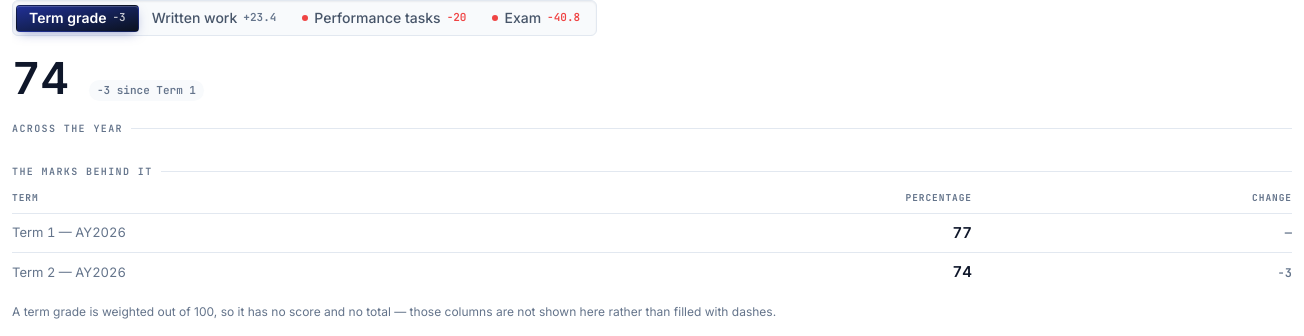
Scenario: the pills carry the flags › states the weight over the figure, not on the tab
Click the tab "Written work +23.4". click: [214, 18]
box: [139,4,289,32]
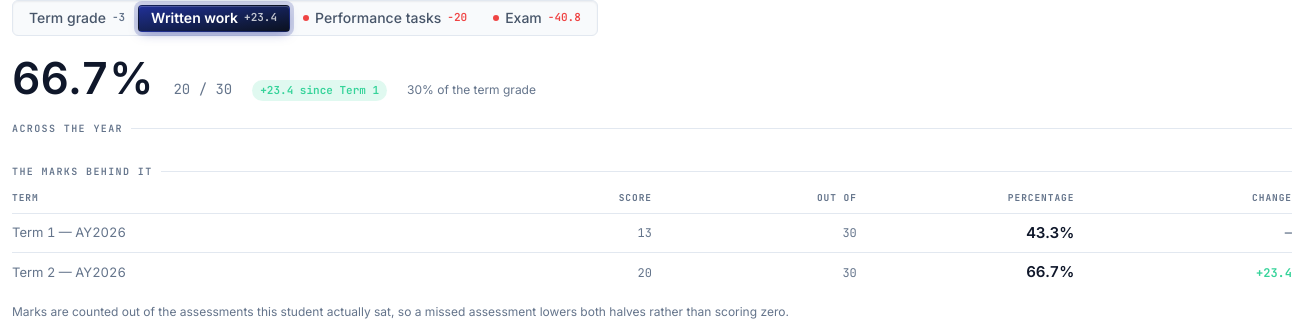
Expected: the text "30% of the term grade" is shown, [407,82,536,98]
